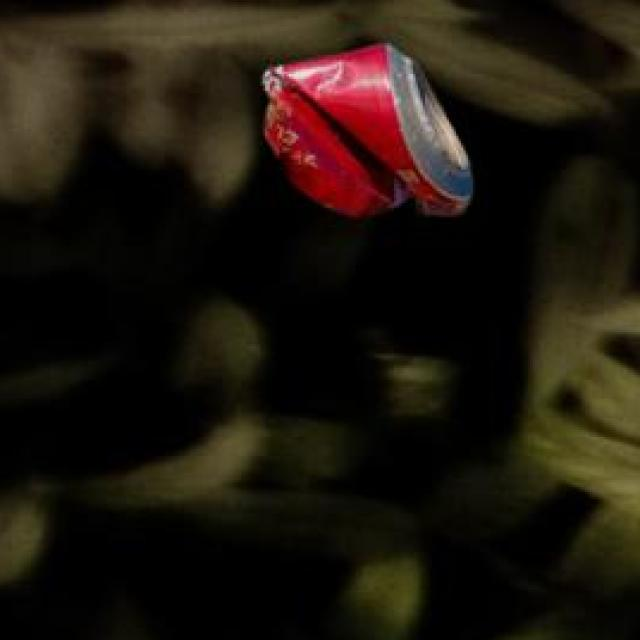logam: (266, 49, 476, 221)
